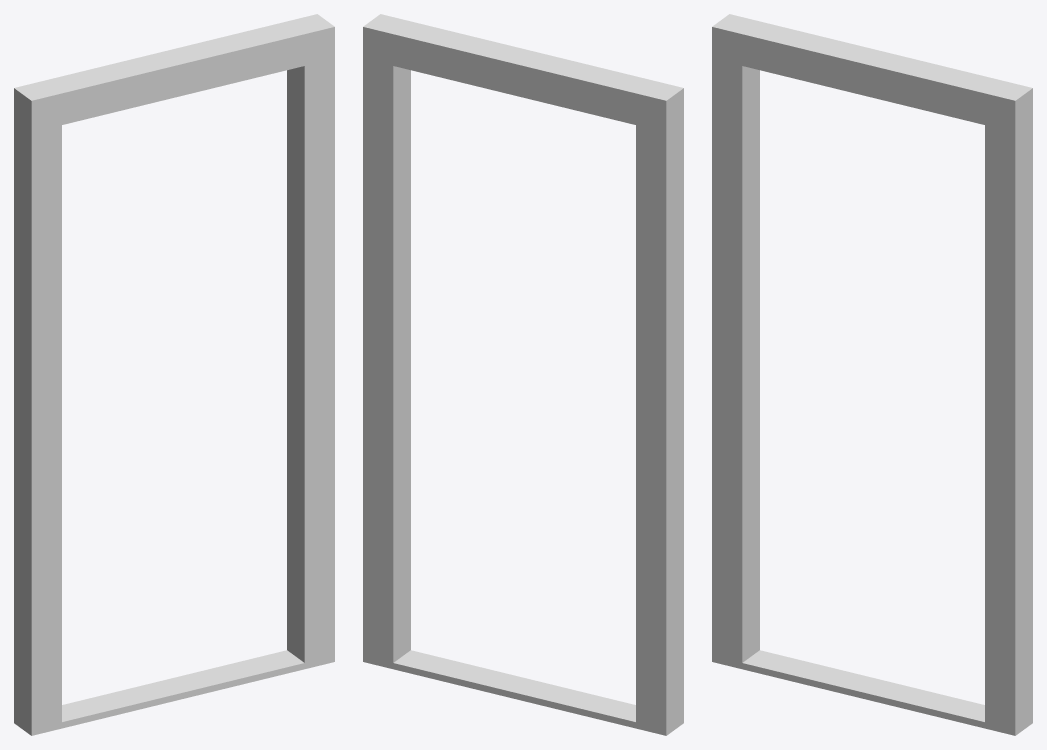
The model's file is PlainDoorframe.fbx.
3 views of the same model, side by side, from view 1: azimuth 30°, elevation 25°; view 2: azimuth 150°, elevation 25°; view 3: azimuth 330°, elevation 25° (orthographic).
Visible parts, largest first — view 1: PlainDoorframe; view 2: PlainDoorframe; view 3: PlainDoorframe.
Part boxes in pixels (box(x1,y1,x2,y2)): PlainDoorframe: box(14, 14, 334, 735); PlainDoorframe: box(363, 14, 683, 735); PlainDoorframe: box(712, 14, 1032, 735).
Size of the model in its own units: 100 by 200 by 10.
